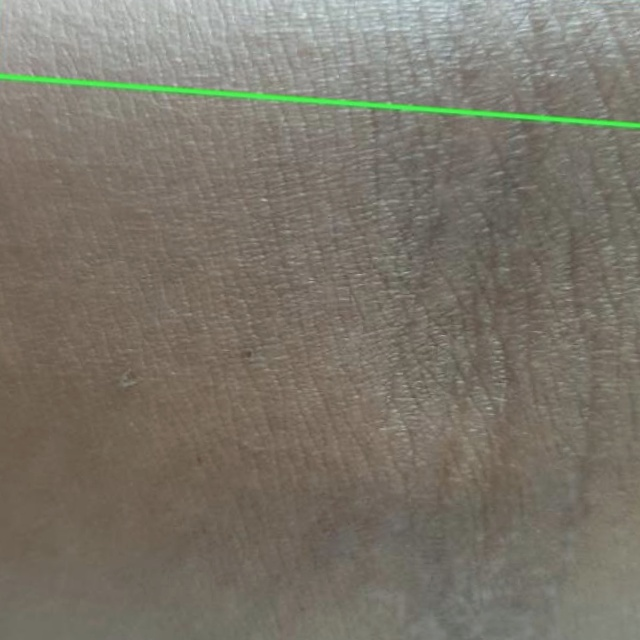Atopic Dermatitis: (0, 0, 639, 125)
